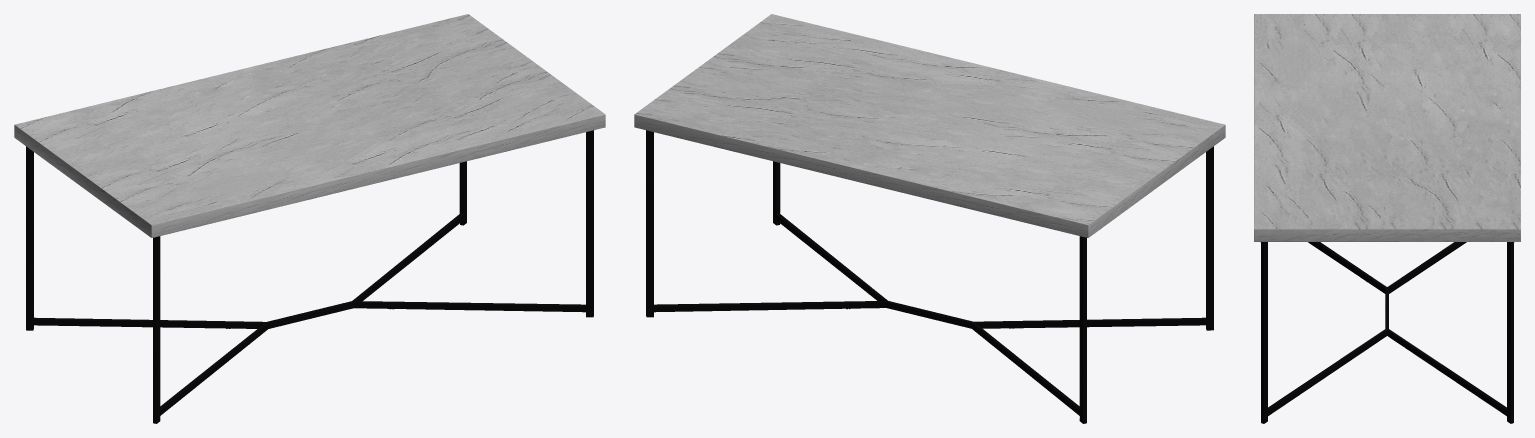
File: ORNE9301_v6_LOD2.obj
3 views of the same model, side by side, from view 1: azimuth 30°, elevation 25°; view 2: azimuth 150°, elevation 25°; view 3: azimuth 270°, elevation 25° (orthographic). The views are drawn at different scales.
Parts seen in each view (by area): view 1: not_clear_obj_2_v6, not_clear_obj_0_v6, not_clear_obj_1_v6; view 2: not_clear_obj_2_v6, not_clear_obj_0_v6, not_clear_obj_1_v6; view 3: not_clear_obj_2_v6, not_clear_obj_0_v6, not_clear_obj_1_v6.
Boxes of the visible parts, left/top/right/bottom form: not_clear_obj_2_v6: left=15, top=14, right=604, bottom=224; not_clear_obj_0_v6: left=26, top=130, right=593, bottom=423; not_clear_obj_1_v6: left=14, top=17, right=605, bottom=237; not_clear_obj_2_v6: left=635, top=14, right=1224, bottom=224; not_clear_obj_0_v6: left=646, top=130, right=1213, bottom=423; not_clear_obj_1_v6: left=634, top=48, right=1225, bottom=237; not_clear_obj_2_v6: left=1254, top=14, right=1520, bottom=229; not_clear_obj_0_v6: left=1260, top=242, right=1514, bottom=423; not_clear_obj_1_v6: left=1254, top=14, right=1520, bottom=241.
Bounding box in the file's own units: 107 × 45.72 × 55.88.
3 materials, 2 textured.
